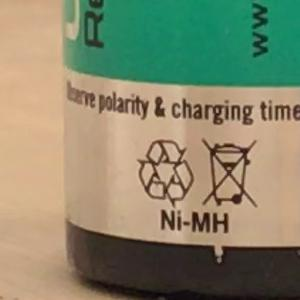NI-MH: (151, 202, 239, 240)
